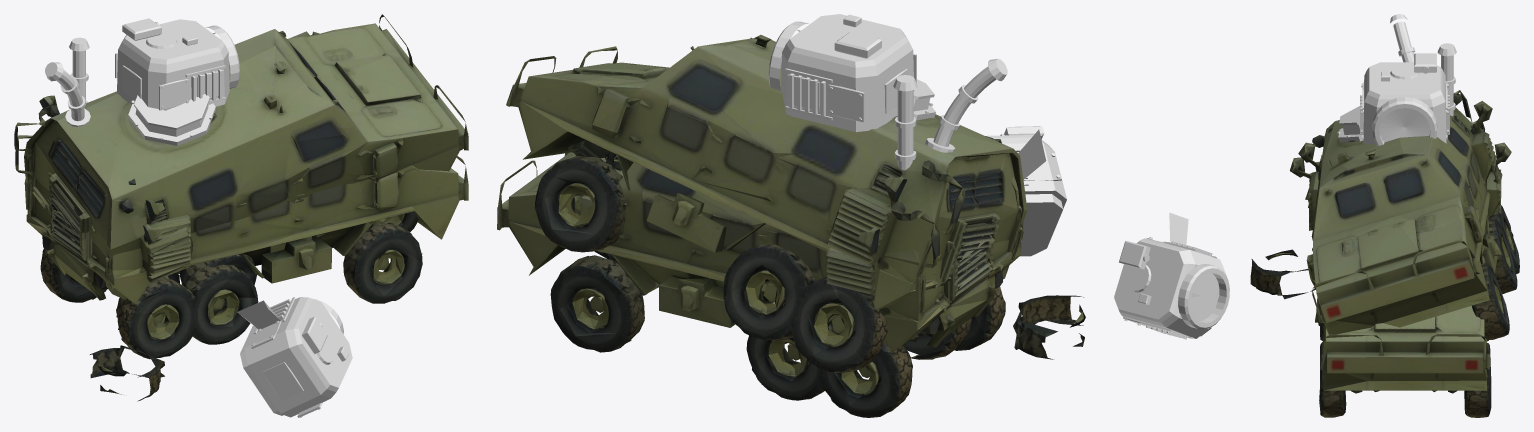
Rendered from aa_remetz.glb.
The picture shows the model from 3 angles, left to right: view 1: azimuth 30°, elevation 25°; view 2: azimuth 150°, elevation 25°; view 3: azimuth 270°, elevation 25°; orthographic projection. The views are drawn at different scales.
Visible parts, largest first — view 1: WRECK_hull_hull, hull_hull, hull_rubber, WRECK_turret_hull, turret_hull, WRECK_hull_metal, WRECK_hull_rubber, turret_metal, WRECK_turret_metal, hull_metal; view 2: WRECK_hull_hull, hull_hull, WRECK_hull_rubber, hull_rubber, turret_hull, WRECK_turret_hull, turret_metal, WRECK_hull_metal, hull_metal; view 3: WRECK_hull_hull, hull_hull, WRECK_turret_hull, turret_hull, WRECK_turret_metal, WRECK_hull_rubber, turret_metal, WRECK_hull_metal, turret_glass, hull_metal.
Boxes of the visible parts, left/top/right/bottom form: WRECK_hull_hull: left=14, top=14, right=468, bottom=319; hull_hull: left=15, top=135, right=468, bottom=358; hull_rubber: left=50, top=222, right=421, bottom=359; WRECK_turret_hull: left=237, top=297, right=352, bottom=417; turret_hull: left=115, top=19, right=229, bottom=110; WRECK_hull_metal: left=45, top=62, right=215, bottom=145; WRECK_hull_rubber: left=90, top=211, right=418, bottom=401; turret_metal: left=122, top=18, right=239, bottom=109; WRECK_turret_metal: left=251, top=297, right=348, bottom=417; hull_metal: left=69, top=37, right=89, bottom=103; WRECK_hull_hull: left=506, top=35, right=1027, bottom=372; hull_hull: left=497, top=136, right=1023, bottom=416; WRECK_hull_rubber: left=534, top=158, right=1085, bottom=372; hull_rubber: left=550, top=260, right=993, bottom=417; turret_hull: left=781, top=14, right=916, bottom=132; WRECK_turret_hull: left=986, top=129, right=1066, bottom=256; turret_metal: left=768, top=14, right=881, bottom=121; WRECK_hull_metal: left=897, top=58, right=1007, bottom=152; hull_metal: left=893, top=75, right=917, bottom=170; WRECK_hull_hull: left=1290, top=90, right=1515, bottom=339; hull_hull: left=1298, top=120, right=1511, bottom=417; WRECK_turret_hull: left=1114, top=212, right=1226, bottom=338; turret_hull: left=1362, top=62, right=1447, bottom=144; WRECK_turret_metal: left=1119, top=237, right=1229, bottom=339; WRECK_hull_rubber: left=1250, top=205, right=1519, bottom=339; turret_metal: left=1360, top=53, right=1449, bottom=145; WRECK_hull_metal: left=1337, top=14, right=1415, bottom=142; turret_glass: left=1379, top=108, right=1430, bottom=142; hull_metal: left=1437, top=43, right=1456, bottom=116.
Size of the model in its own units: 7.35 by 5.15 by 7.08.
1 material, 1 textured.
